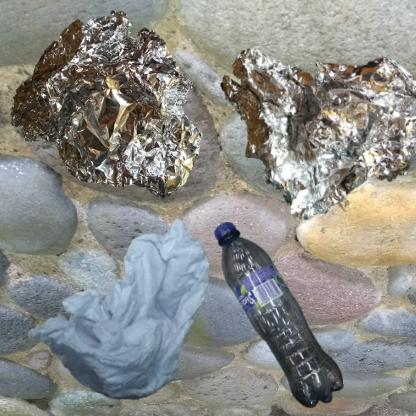aluminio: (213, 10, 416, 240), (10, 10, 203, 198)
botella: (213, 213, 349, 416)
papel: (10, 213, 243, 416)
